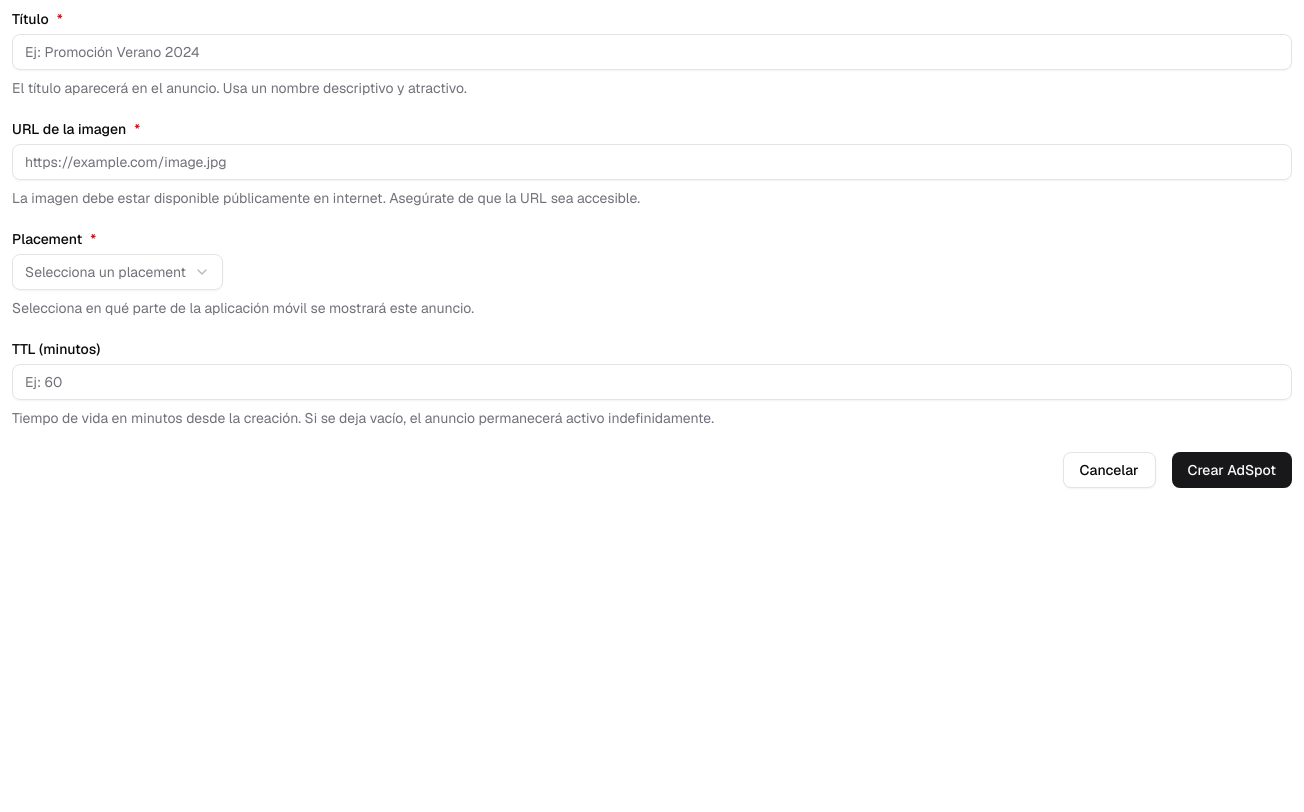
Test case: AdSpotForm › Validación de campos › debe mostrar error si el título está vacío
This screenshot has width=1304, height=812.
Click the button "Crear AdSpot".
click(1232, 470)  # box [1172,452,1292,488]
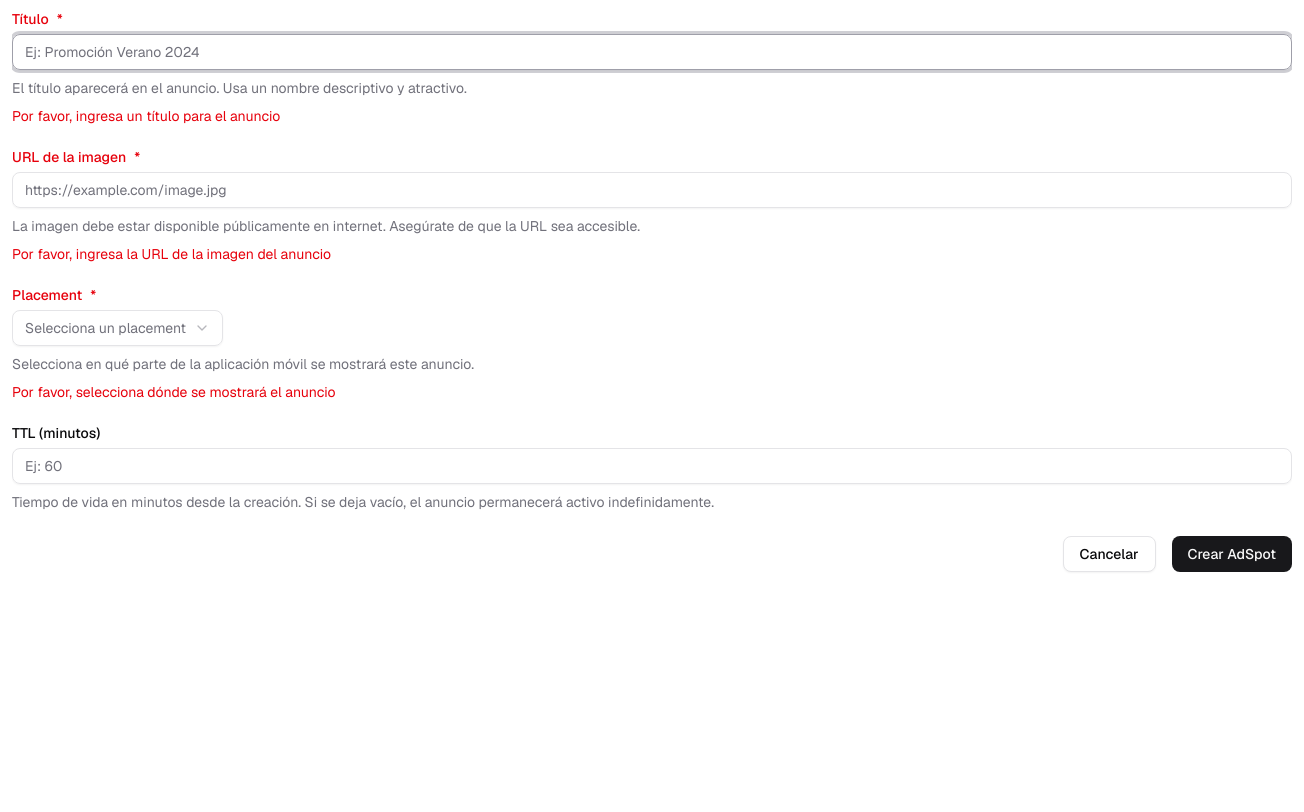
Result: the text "Por favor, ingresa un título para el anuncio" is shown at [12,107,280,125]
